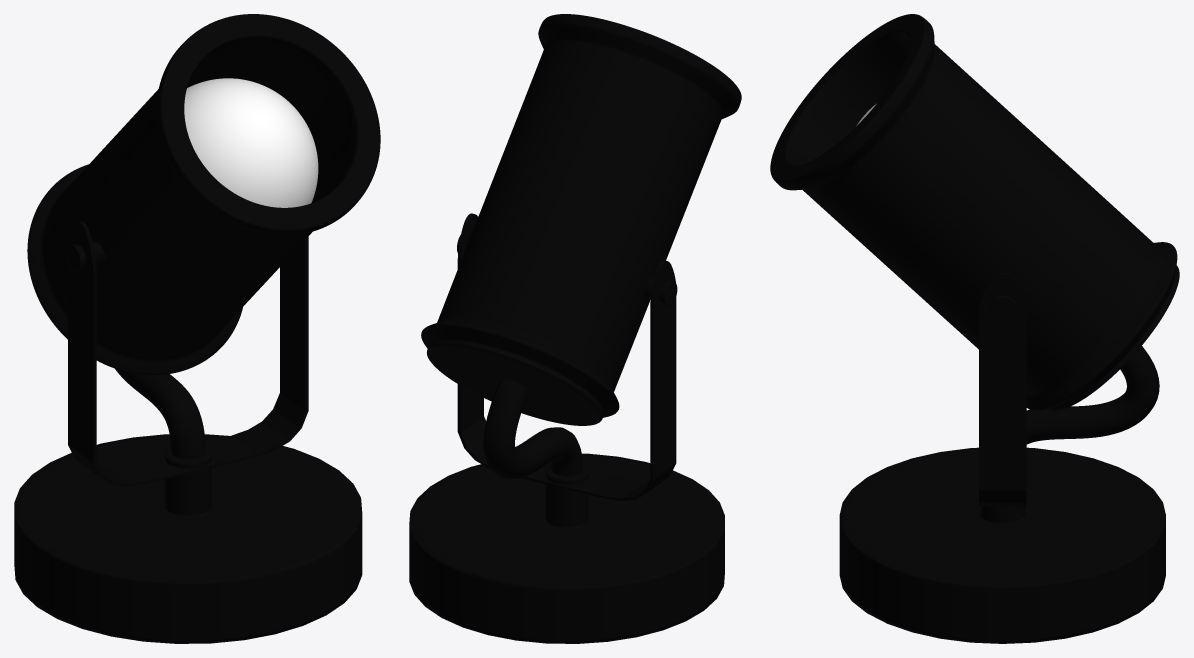
Rendered from Reflector.obj.
3 views of the same model, side by side, from view 1: azimuth 30°, elevation 25°; view 2: azimuth 150°, elevation 25°; view 3: azimuth 270°, elevation 25° (orthographic). The views are drawn at different scales.
Visible parts, largest first — view 1: Cylinder.002, Cylinder.001; view 2: Cylinder.001, Cylinder.002; view 3: Cylinder.001, Cylinder.002.
Part boxes in pixels (x1,y1,x2,y2): Cylinder.002: (14, 221, 362, 643); Cylinder.001: (27, 14, 380, 375); Cylinder.001: (421, 14, 741, 425); Cylinder.002: (409, 213, 724, 643); Cylinder.001: (770, 14, 1179, 411); Cylinder.002: (839, 272, 1165, 643).
Size of the model in its own units: 2 by 3.7 by 2.51.
